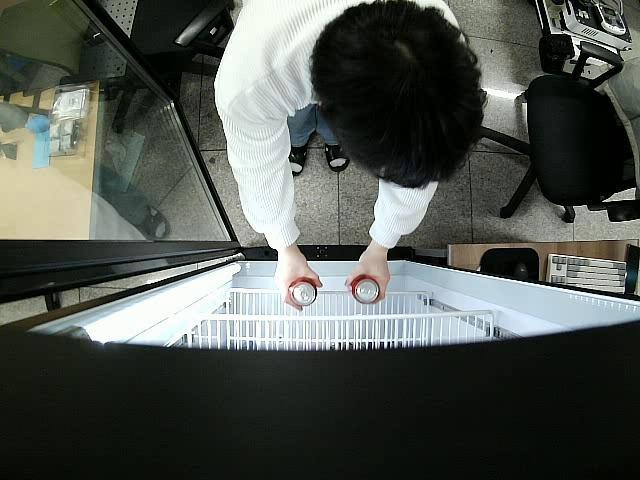11_cocaColaZero: (351, 274, 380, 304), (287, 278, 318, 306)
